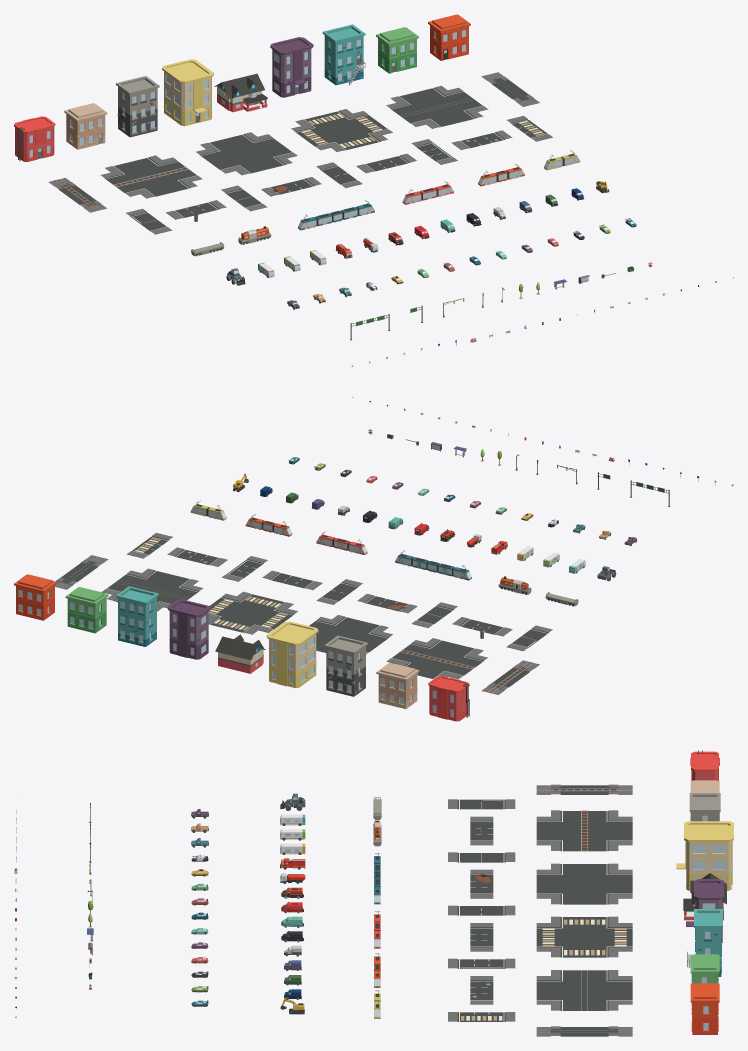
The model's file is Low Poly Simple Urban City 3D Asset Pack.fbx.
3 views of the same model, one above another, from view 1: azimuth 30°, elevation 25°; view 2: azimuth 150°, elevation 25°; view 3: azimuth 270°, elevation 25° (orthographic). The views are drawn at different scales.
Parts seen in each view (by area): view 1: Road, Building_8, Building_7, Building_2, Building_3, Building_9, Building_5, Building_4, Building_6, Building_1, Tram_1; view 2: Road, Building_8, Building_7, Building_2, Building_3, Building_9, Building_6, Building_5, Building_4, Building_1, Tram_1, Tram_2 (+2 smaller); view 3: Road, Building_8, Building_4, Building_3, Building_7, Building_2, Building_6, Building_9, Road_Roadworks, Road_Crosswalk, Building_1.
Part boxes in pixels (x1,y1,x2,y2): Road: (48,72,539,234); Building_8: (162,59,213,126); Building_7: (270,37,313,97); Building_2: (116,76,159,137); Building_3: (322,24,365,85); Building_9: (14,116,55,161); Building_5: (64,103,107,149); Building_4: (428,14,470,60); Building_6: (376,27,418,73); Building_1: (214,73,267,112); Tram_1: (298,200,374,230); Road: (55,547,552,694); Building_8: (266,621,318,687); Building_7: (167,599,210,659); Building_2: (324,635,367,696); Building_3: (116,586,158,646); Building_9: (428,676,469,721); Building_6: (65,587,108,633); Building_5: (376,662,419,708); Building_4: (14,574,56,620); Building_1: (215,634,265,673); Tram_1: (395,550,471,580); Tram_2: (316,532,367,554); Road: (448,784,632,1036); Building_8: (676,821,733,890); Building_4: (690,983,719,1034); Building_3: (687,909,722,976); Building_7: (686,879,723,942); Building_2: (689,793,720,821); Building_6: (690,954,719,983); Building_9: (690,750,719,780); Road_Roadworks: (470,869,493,898); Road_Crosswalk: (448,1012,515,1021); Building_1: (683,873,726,920).
Size of the model in its own units: 260 by 30.85 by 315.
1 material, 1 textured.
